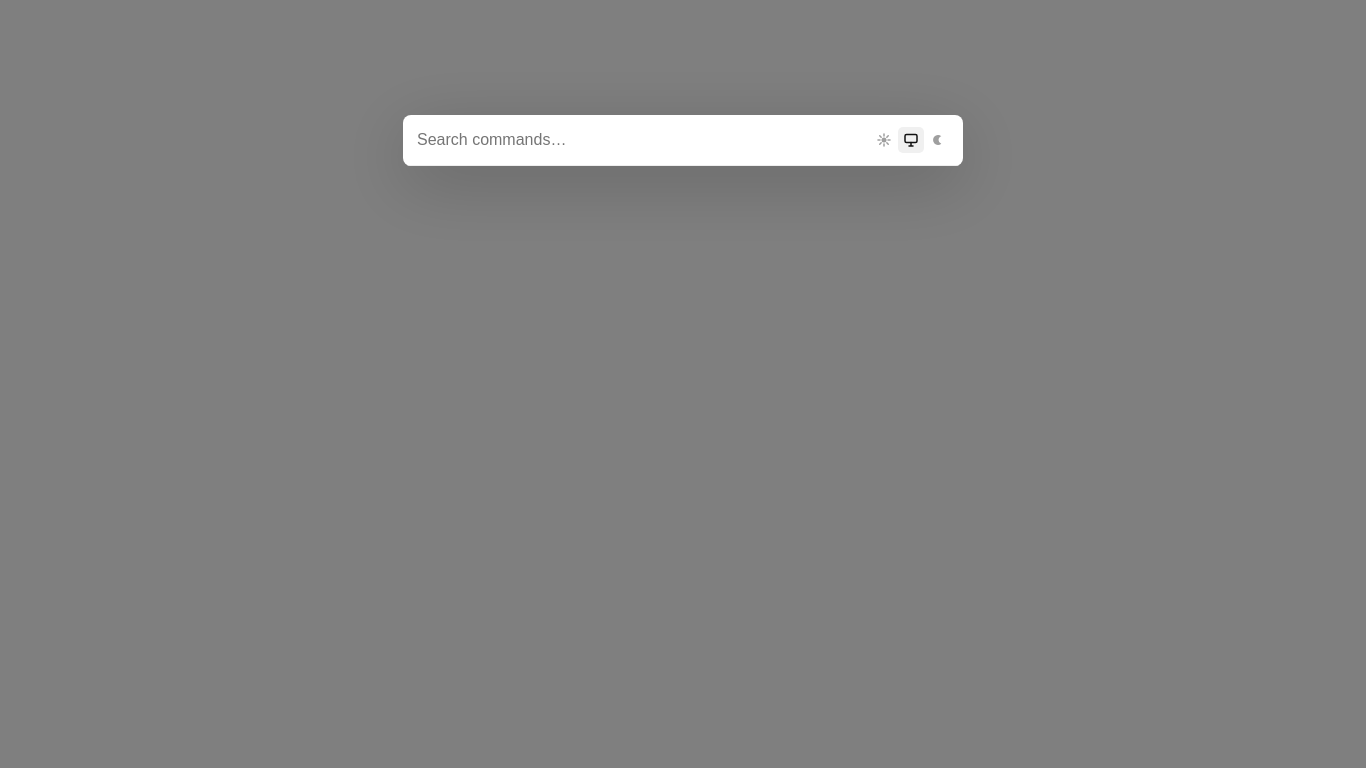
it: CommandPalette › shows a match hint when a keyword matched but the label did not
Type "config" into the dropdown with placeholder "Search commands…". click: x=639, y=140
box: [415,130,863,150]
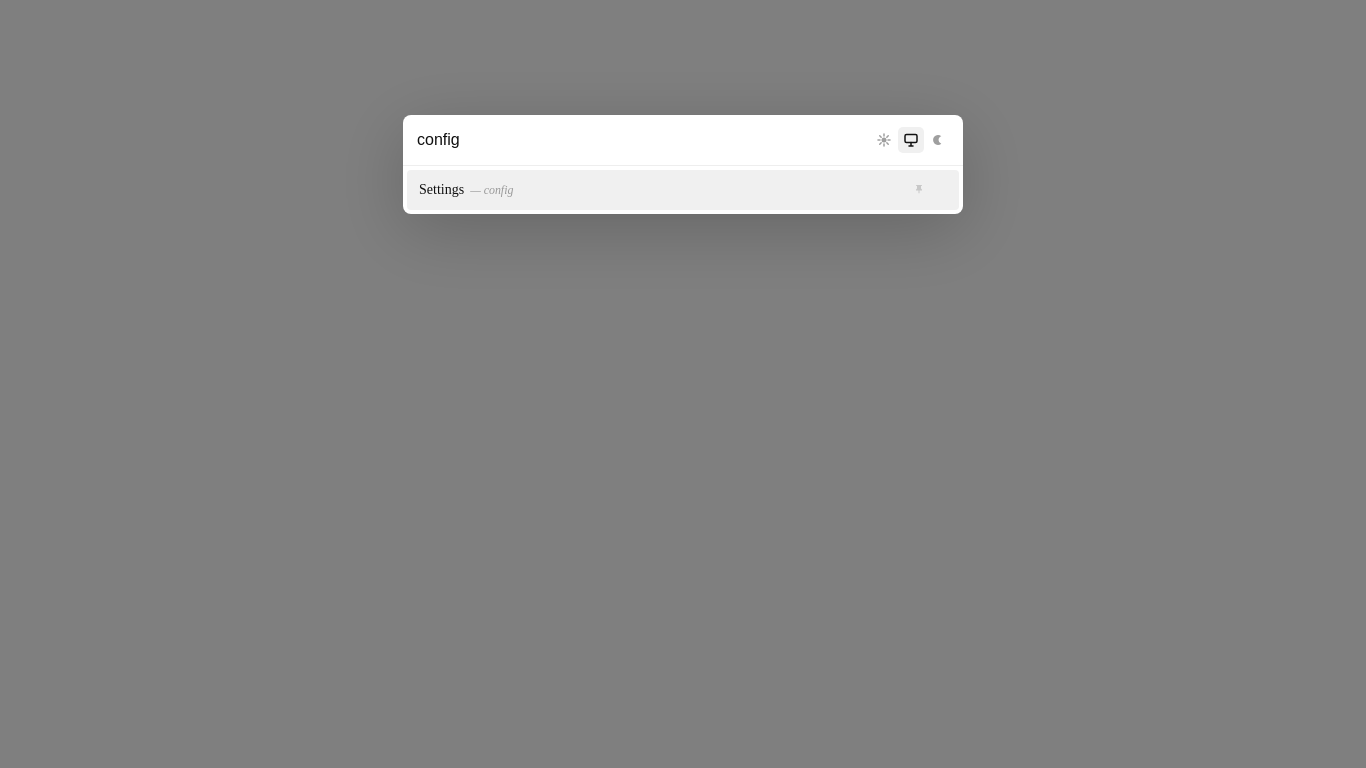
Now the text "— config" is shown, box [470,183,513,197]
